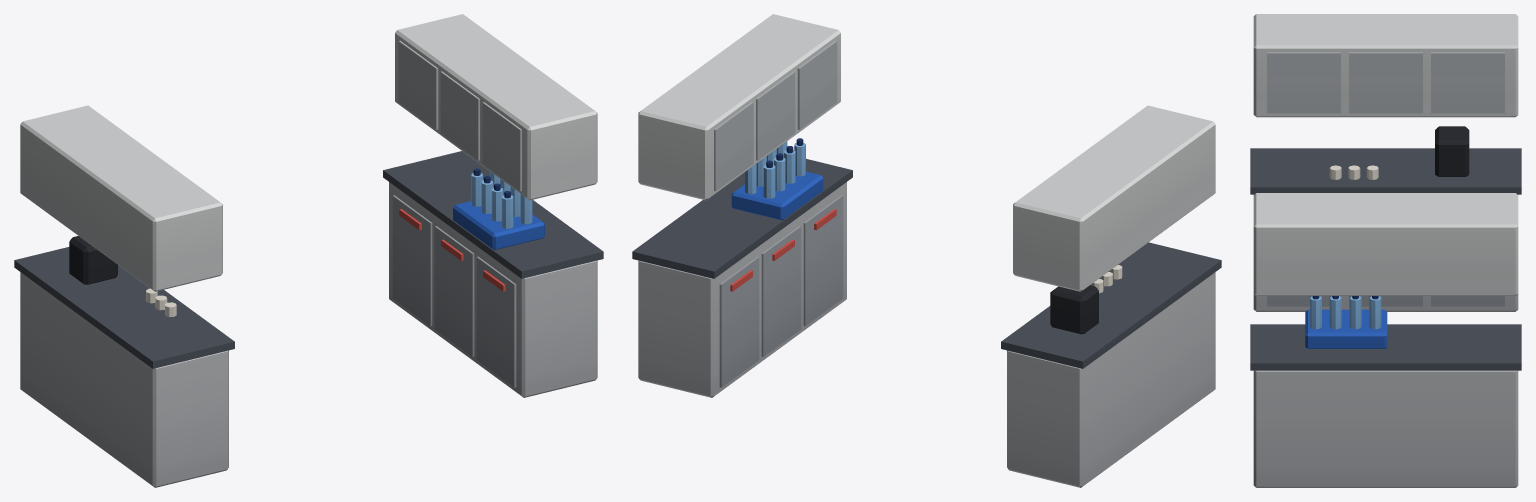
Rendered from Cozinha.glb.
3 renders of one model, left to right at view 1: azimuth 30°, elevation 25°; view 2: azimuth 150°, elevation 25°; view 3: azimuth 270°, elevation 25°, orthographic. The views are drawn at different scales.
Parts seen in each view (by area): view 1: Cozinha_Malha; view 2: Cozinha_Malha; view 3: Cozinha_Malha.
Boxes of the visible parts, box(x1,y1,x2,y2) form: Cozinha_Malha: box(14, 14, 603, 487); Cozinha_Malha: box(632, 14, 1221, 487); Cozinha_Malha: box(1250, 14, 1521, 487).
Bounding box in the file's own units: 3.85 × 2.2 × 2.05.
1 material, 1 textured.
